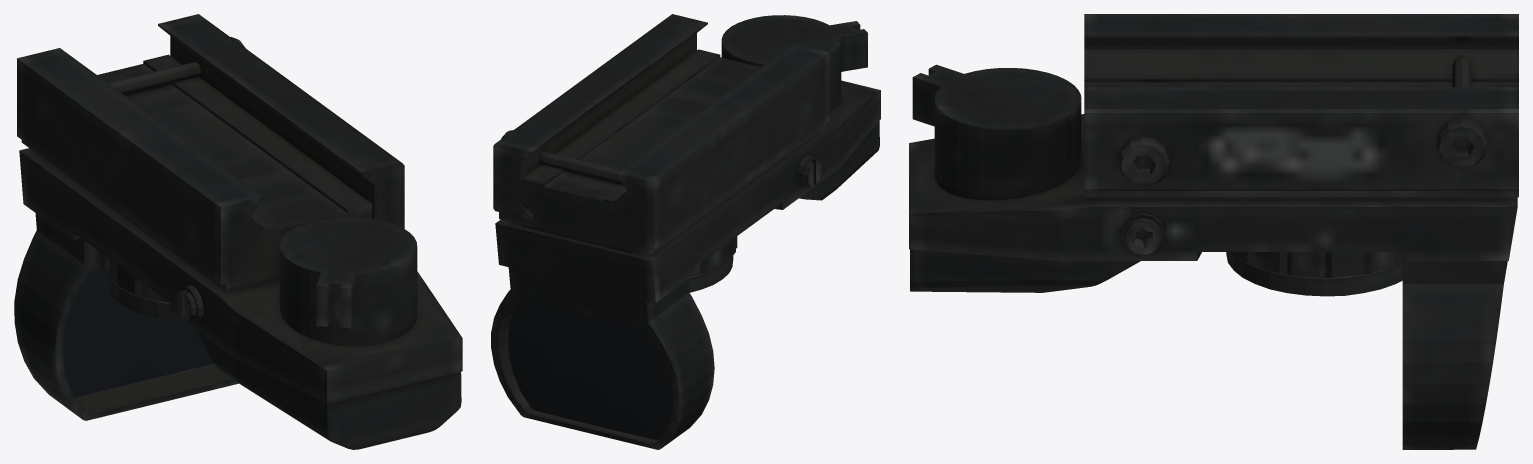
3 renders of one model, left to right at view 1: azimuth 30°, elevation 25°; view 2: azimuth 150°, elevation 25°; view 3: azimuth 270°, elevation 25°, orthographic. The views are drawn at different scales.
Parts seen in each view (by area): view 1: TW_570fd721d2720bc5458b4596_mode3_PZ_Import; view 2: TW_570fd721d2720bc5458b4596_mode3_PZ_Import; view 3: TW_570fd721d2720bc5458b4596_mode3_PZ_Import.
Part boxes in pixels (x1,y1,x2,y2): TW_570fd721d2720bc5458b4596_mode3_PZ_Import: (14, 14, 462, 449); TW_570fd721d2720bc5458b4596_mode3_PZ_Import: (491, 14, 880, 449); TW_570fd721d2720bc5458b4596_mode3_PZ_Import: (909, 14, 1518, 449).
Size of the model in its own units: 0.0216 by 0.0495 by 0.0312.
Materials: 1 (1 with a texture image).
